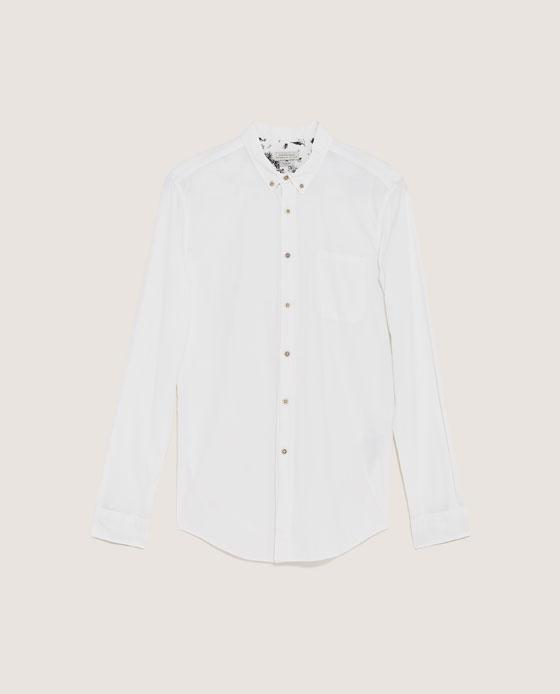teeshirt: (83, 112, 480, 566)
